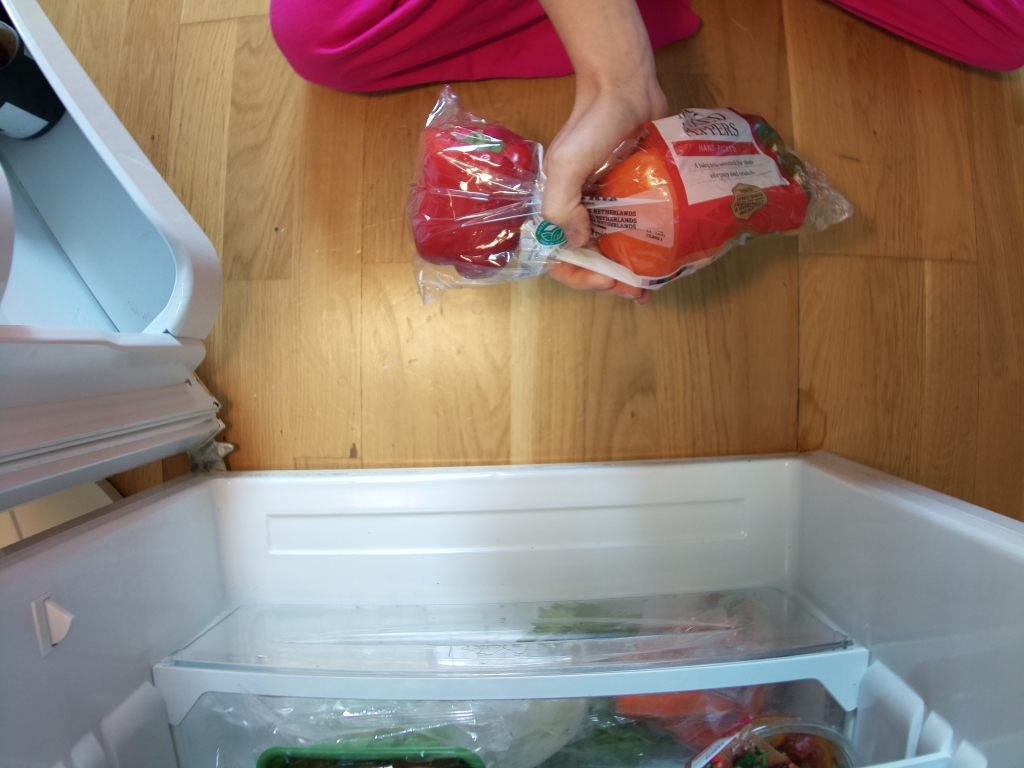pepper: (410, 121, 539, 282), (588, 145, 731, 282)
